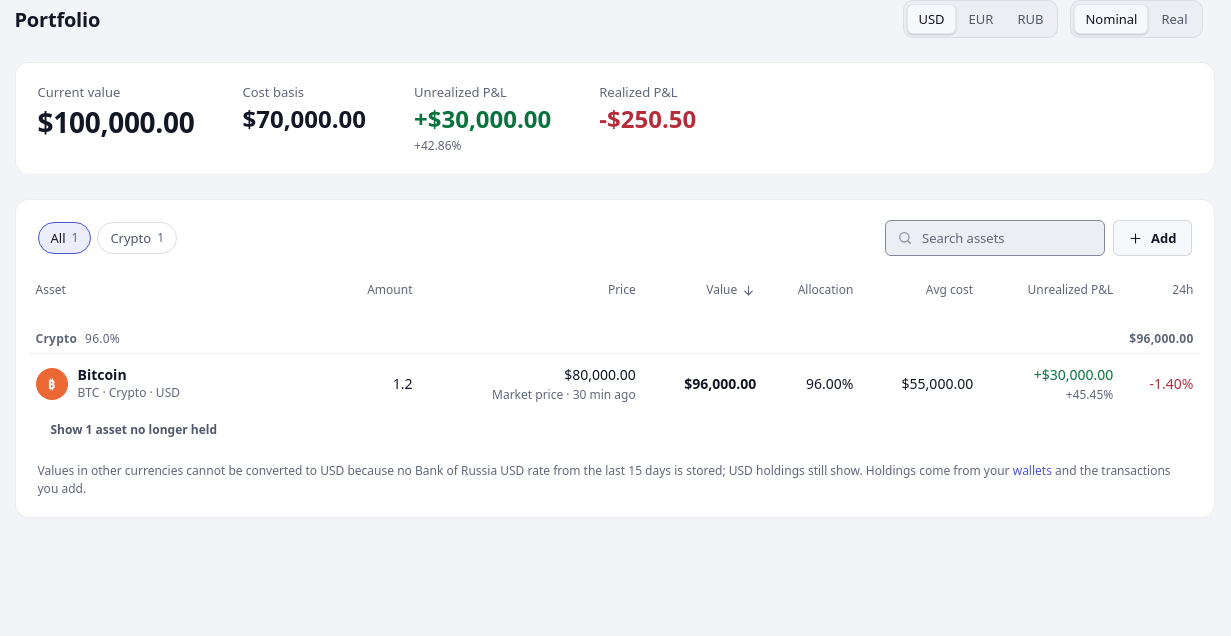
Scenario: PV-UI Portfolio values every asset › PORTFOLIO-SOLD-OUT hides assets no longer held until asked, and a search finds them
Expected: the row "Bitcoin" is shown, 30,353 -> 1200,414
Expected: the row "Sold share" is not shown
Click the button "Show 1 asset no longer held" at coordinates (134, 430), box 38,414 -> 230,446
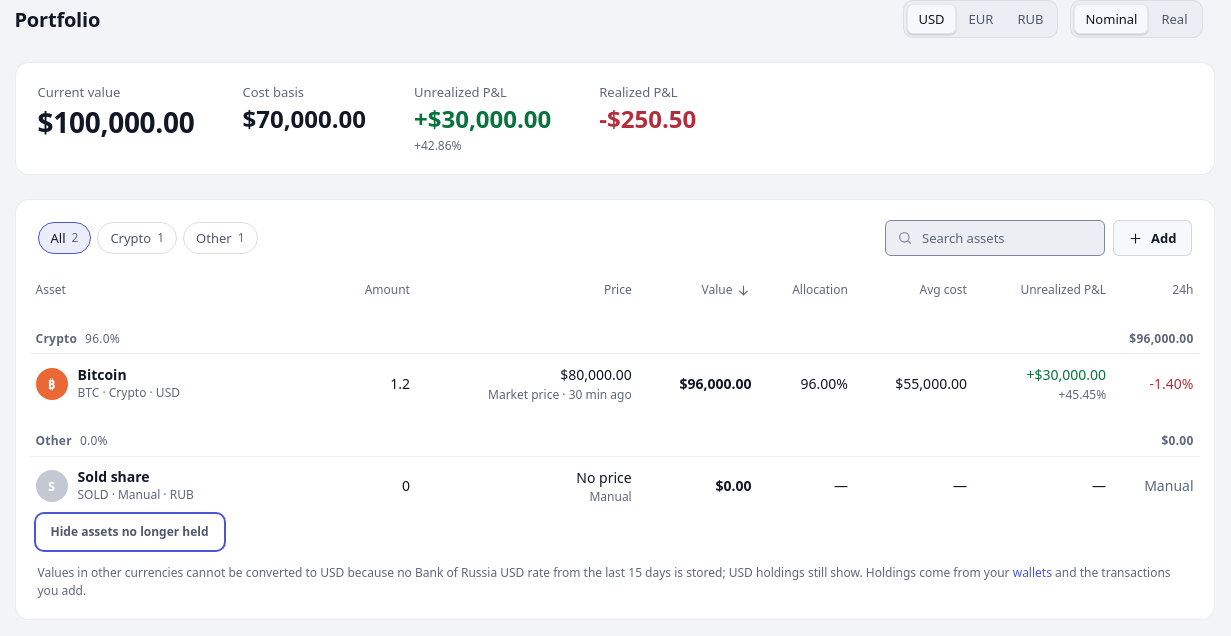
Expected: the row "Sold share" is shown, 30,456 -> 1200,516
Click the button "Hide assets no longer held" at coordinates (130, 532), box 38,516 -> 222,548
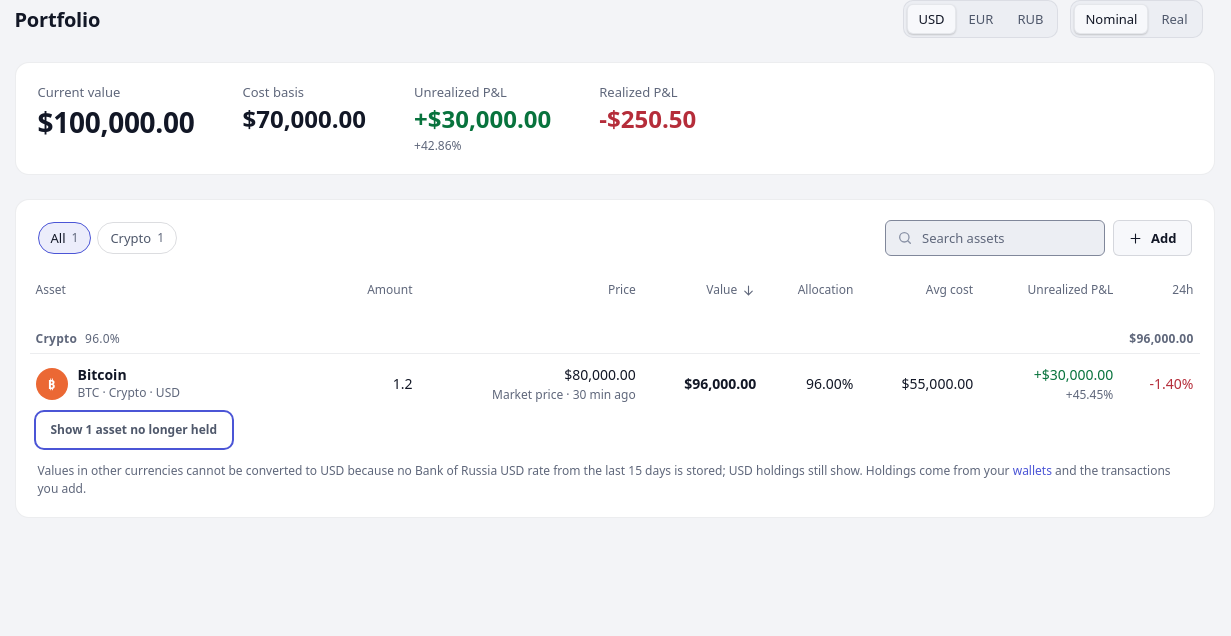
Expected: the link "Sold share" is gone
Type "SOLD" into the search field at coordinates (995, 238), box 885,220 -> 1105,256
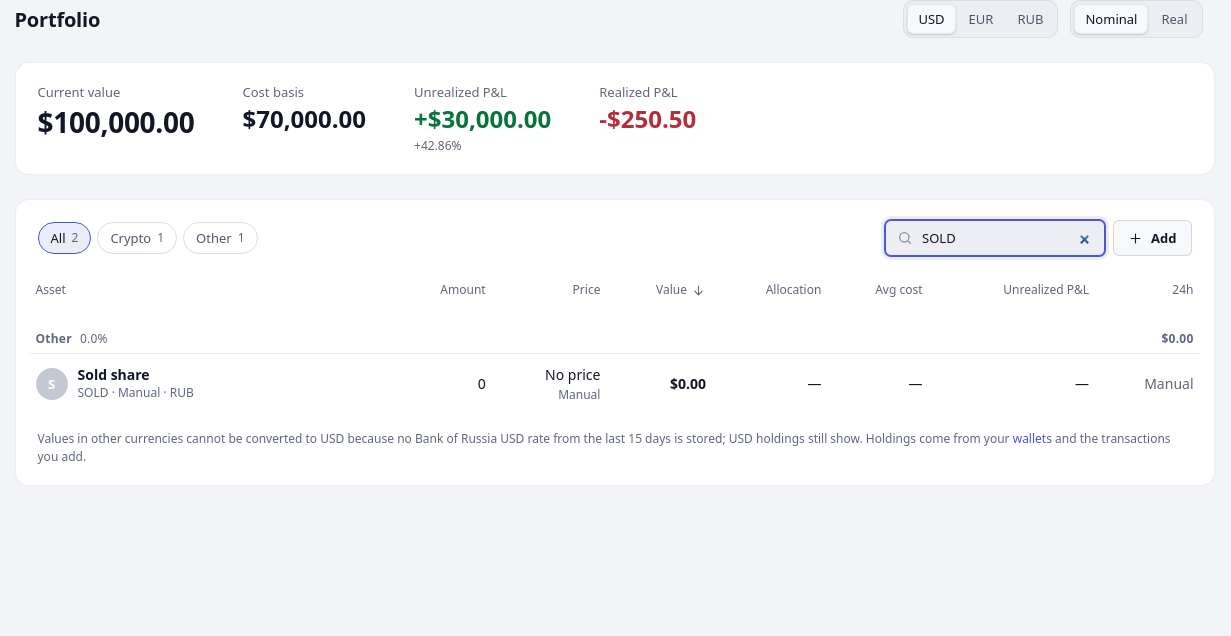
Expected: the row "Sold share" is shown, 30,353 -> 1200,414
